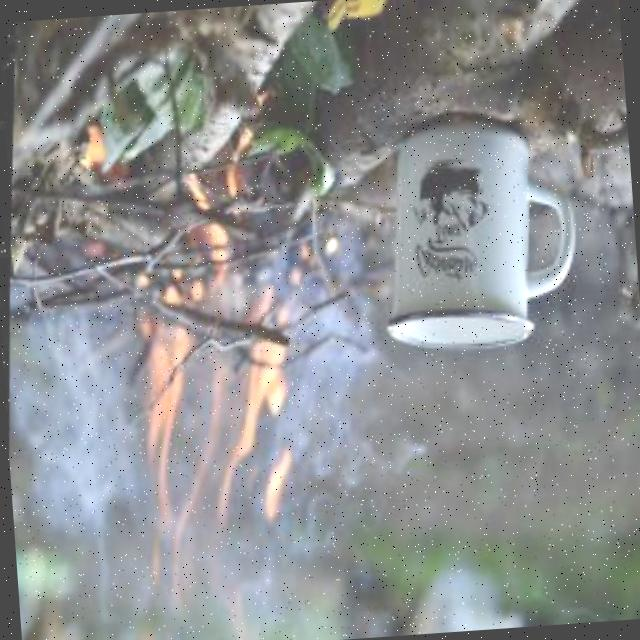fire: (123, 265, 305, 525)
